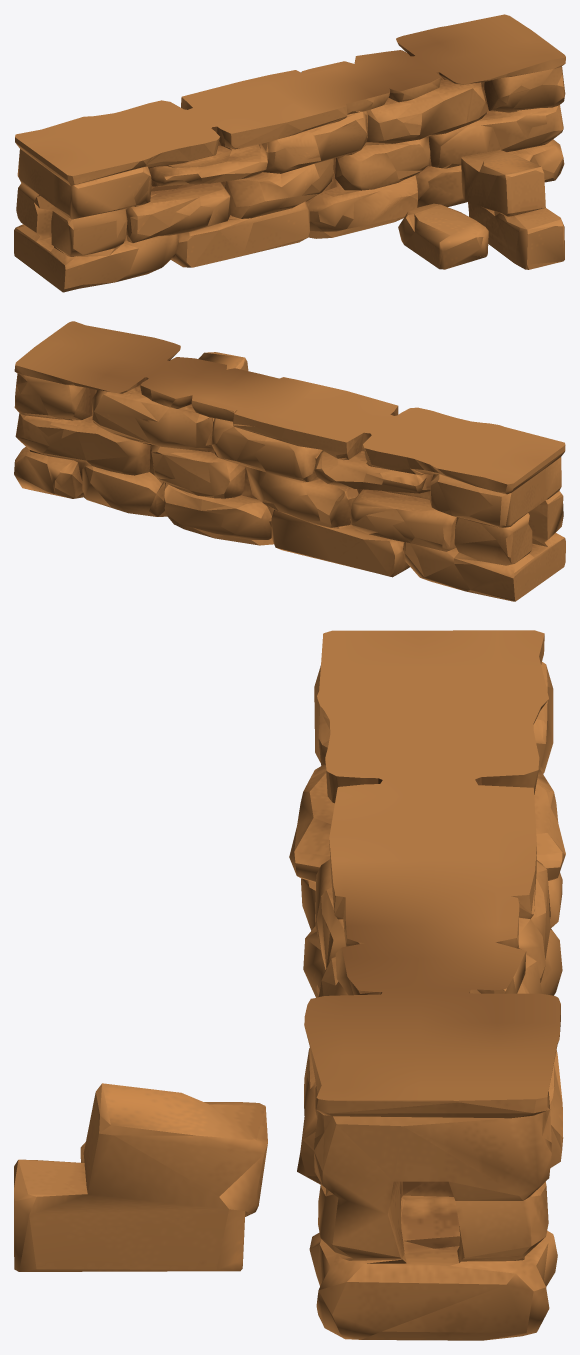
Rendered from cover_half_temple_v2.glb.
3 renders of one model, top to bottom at view 1: azimuth 30°, elevation 25°; view 2: azimuth 150°, elevation 25°; view 3: azimuth 270°, elevation 25°, orthographic. The views are drawn at different scales.
Bounding box in the file's own units: 0.9799 × 0.2392 × 0.4844.
Materials: 1 (1 with a texture image).
